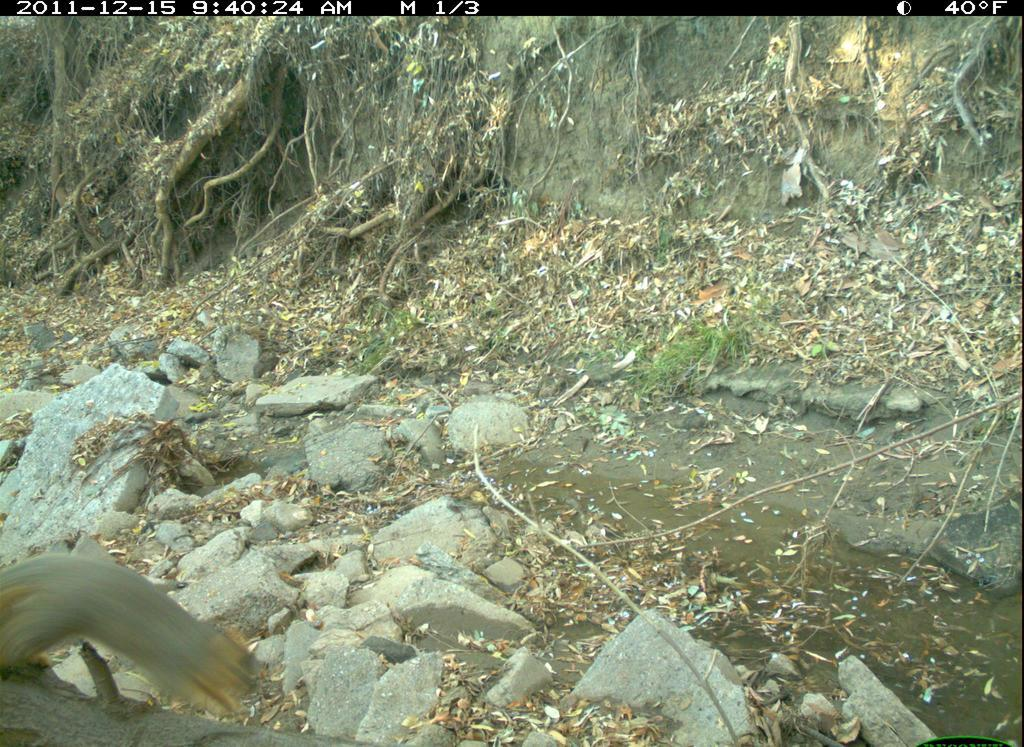squirrel: (2, 536, 291, 728)
